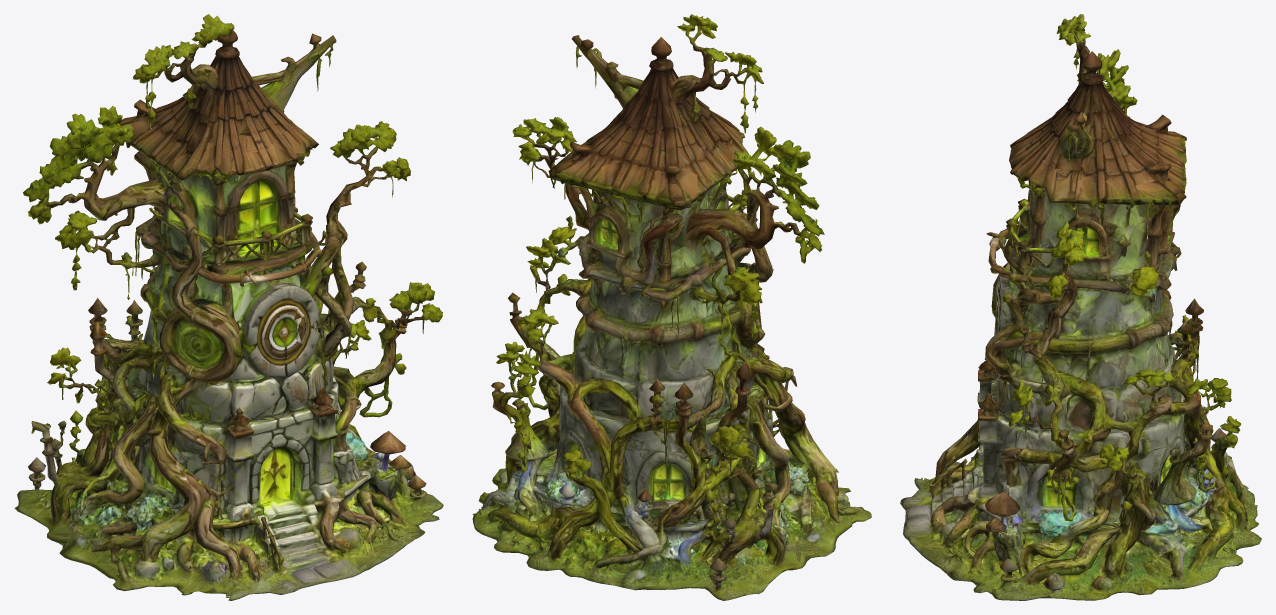
The model's file is Vinebound_Clocktower.glb.
The picture shows the model from 3 angles, left to right: view 1: azimuth 30°, elevation 25°; view 2: azimuth 150°, elevation 25°; view 3: azimuth 270°, elevation 25°; orthographic projection. The views are drawn at different scales.
Visible parts, largest first — view 1: Vinebound_Clocktower; view 2: Vinebound_Clocktower; view 3: Vinebound_Clocktower.
Part boxes in pixels (bbox=[...]): Vinebound_Clocktower: bbox=[14, 14, 443, 600]; Vinebound_Clocktower: bbox=[472, 14, 871, 600]; Vinebound_Clocktower: bbox=[900, 14, 1261, 600].
Size of the model in its own units: 1.39 by 1.9 by 1.26.
Materials: 1 (1 with a texture image).
